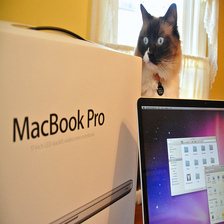laptop: (128, 90, 224, 224)
